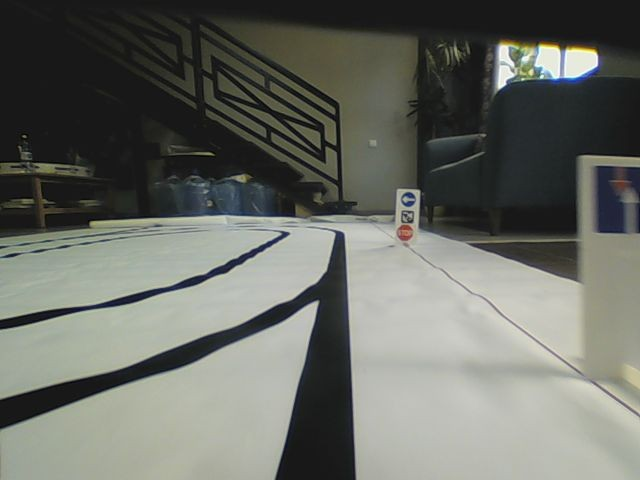Stop: (396, 224, 415, 242)
